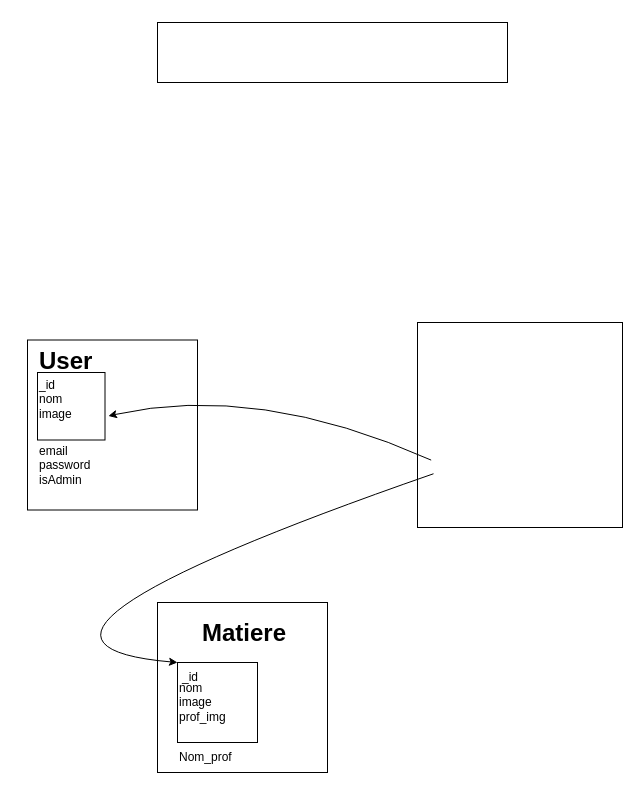
This 640x790 diagram has some shape labels left out. Each missing label, with the centre of its shape:
"Assignment App MongoDB" goes at (x=332, y=52).
"Assignments _id nom dateDeRendu rendu note auteur matiere remarque" goes at (x=519, y=425).
